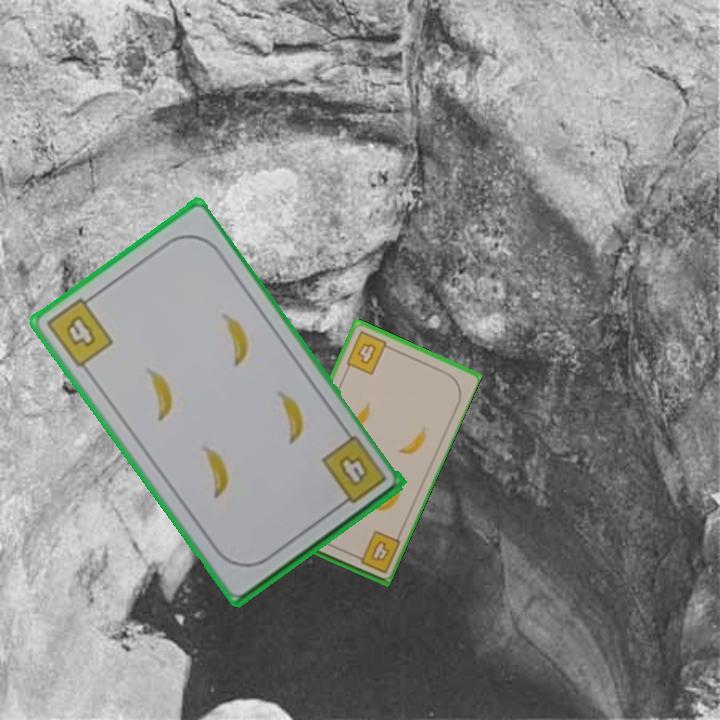4b: (42, 290, 116, 371), (317, 432, 390, 511), (342, 327, 395, 378), (349, 527, 403, 576)
